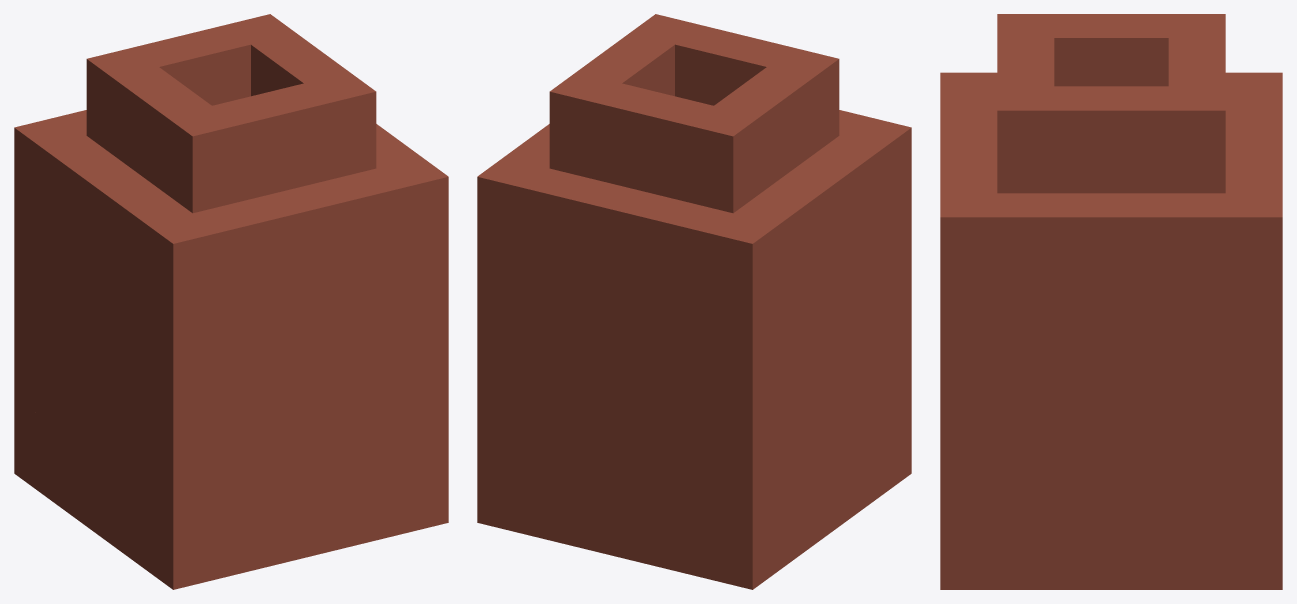
File: Pot2.fbx
3 views of the same model, side by side, from view 1: azimuth 30°, elevation 25°; view 2: azimuth 150°, elevation 25°; view 3: azimuth 270°, elevation 25° (orthographic). The views are drawn at different scales.
Parts seen in each view (by area): view 1: mergedBlocks; view 2: mergedBlocks; view 3: mergedBlocks.
Part boxes in pixels (x1,y1,x2,y2): mergedBlocks: (14,14,448,589); mergedBlocks: (477,14,911,589); mergedBlocks: (940,14,1282,589).
Bounding box in the file's own units: 2.4 × 3.52 × 2.4.
